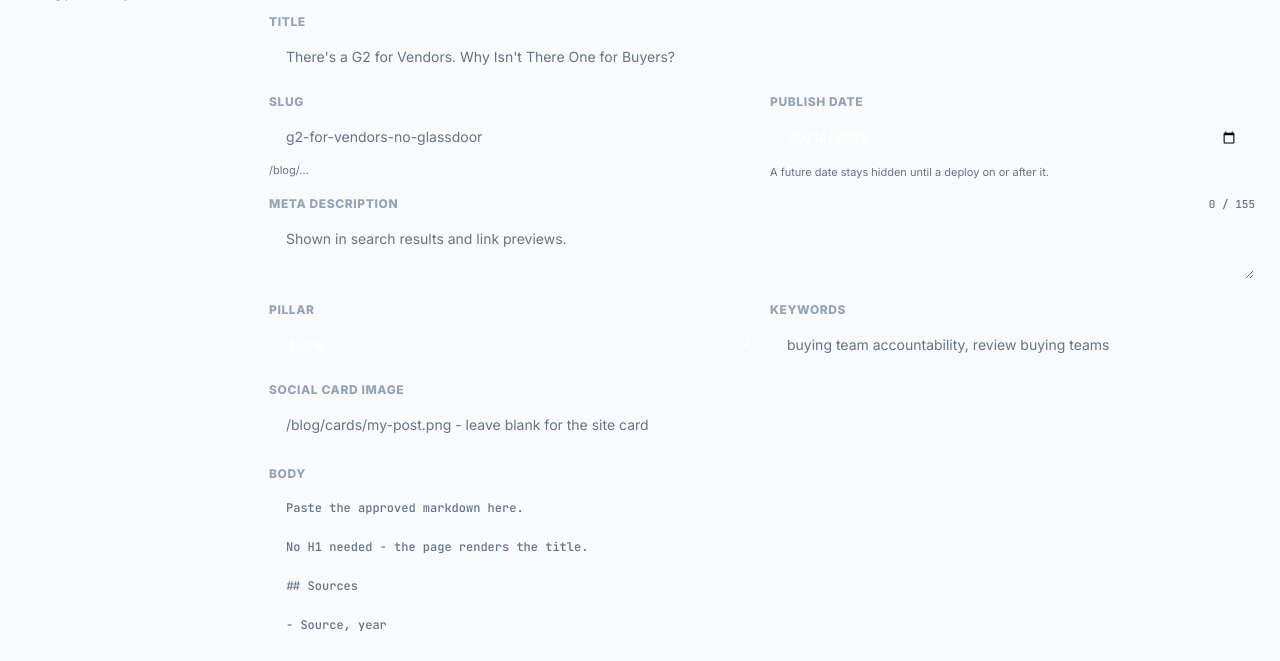
Test: BlogEditor › shows the server's message when publishing fails
In the field labelled "Title": [762, 57] box [269,36,1255,78], type "A Good Post"
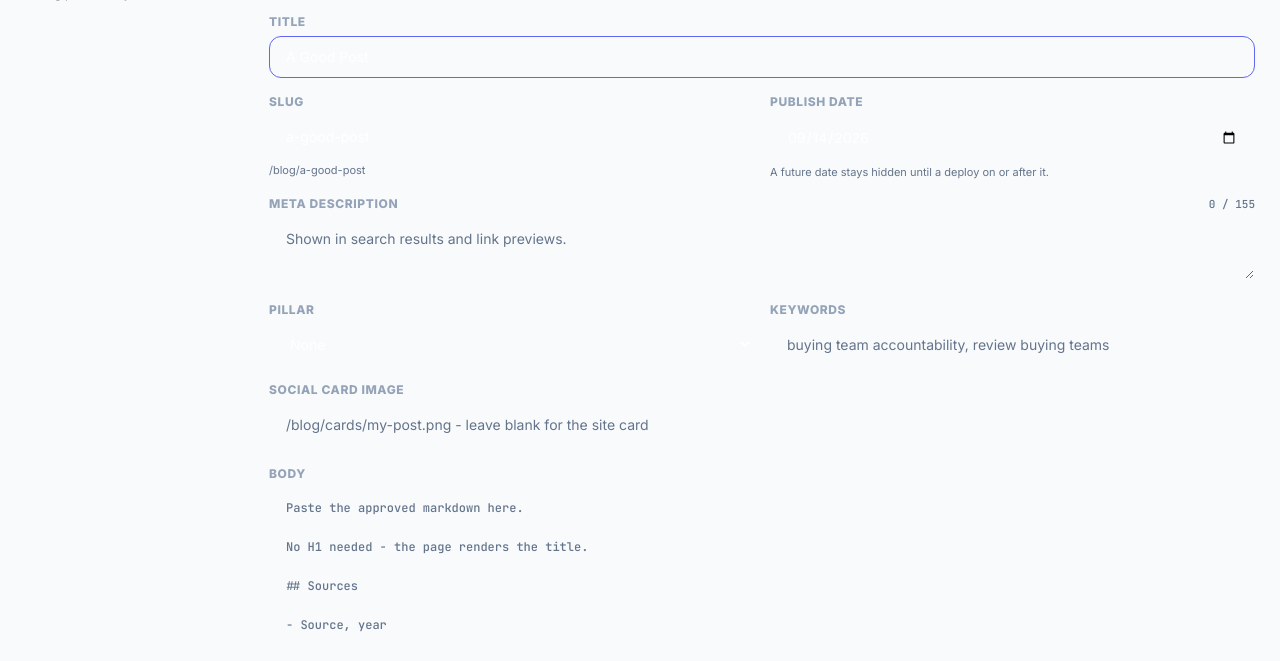
In the text box labelled "Meta description": [762, 249] box [269,218,1255,280], type "What the post is about."
(page scrolled)
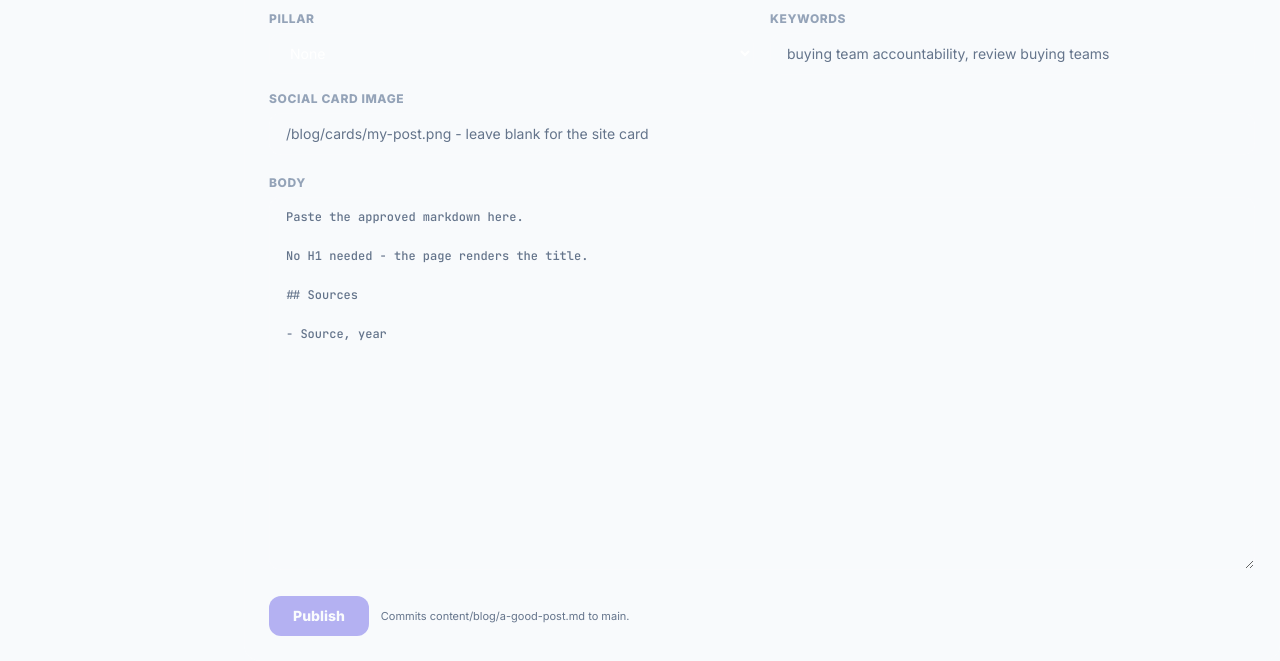
In the text box labelled "Body": [762, 384] box [269,197,1255,570], type "Lead paragraph."
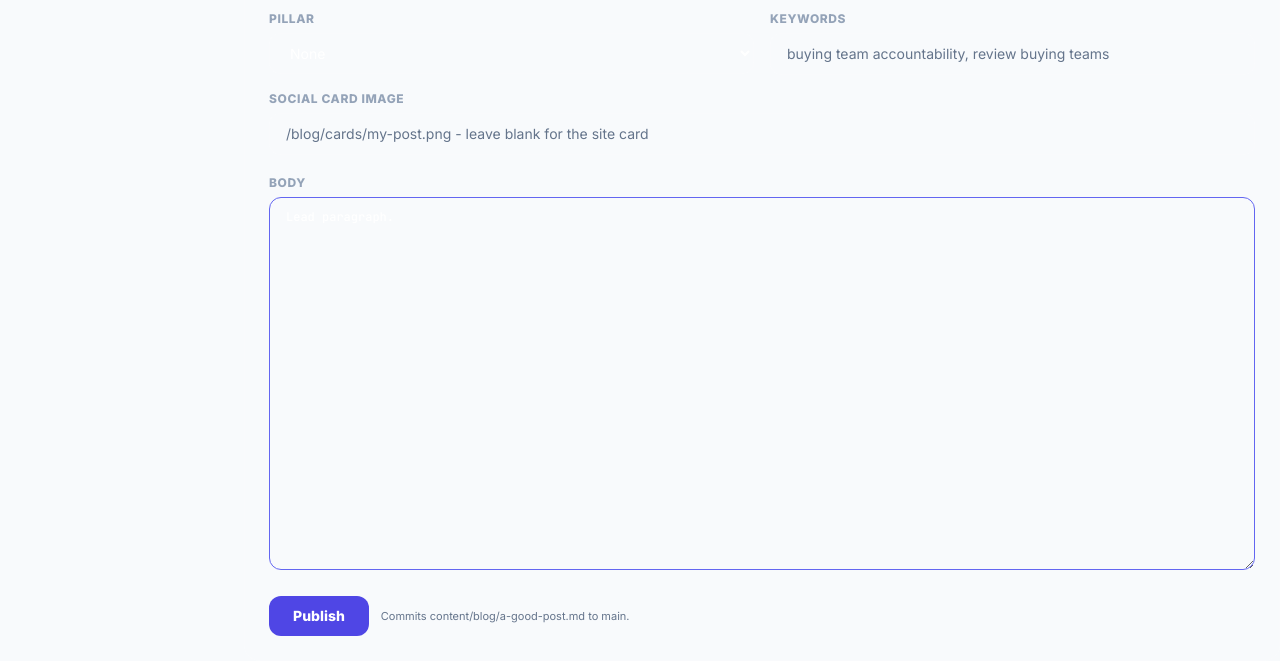
Click the button "Publish": [319, 616] box [269,596,369,636]
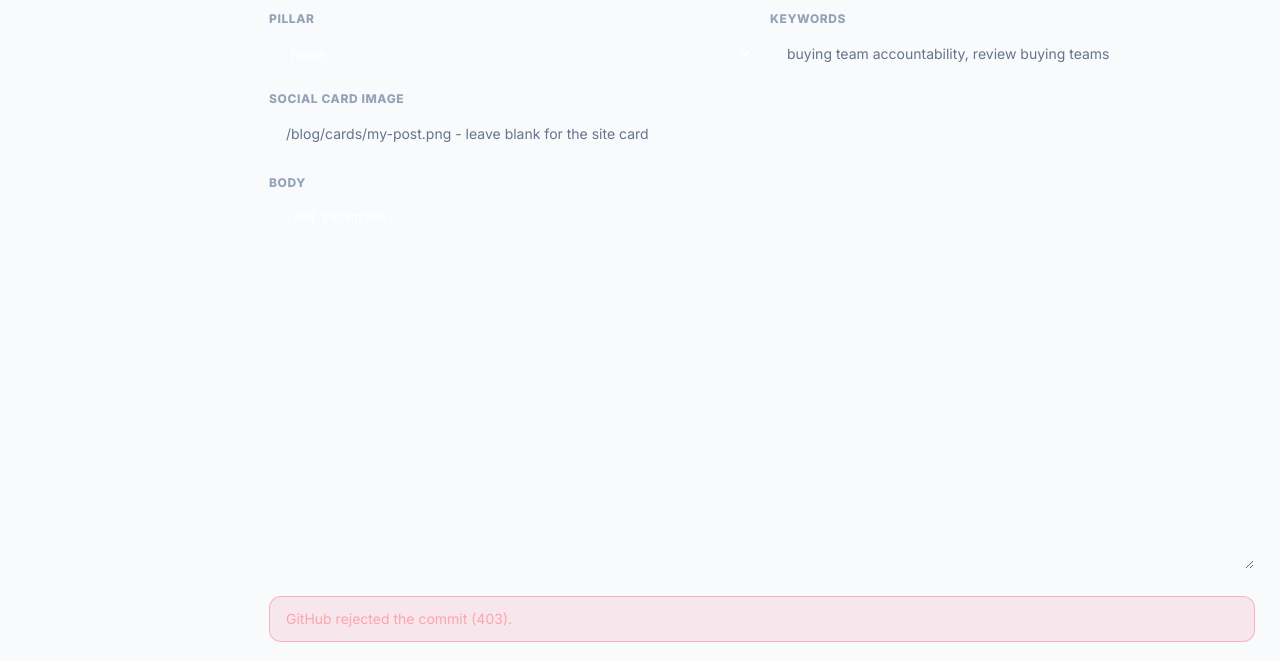
expect the text "GitHub rejected the commit (403)." is shown: met, box [269,596,1255,642]
